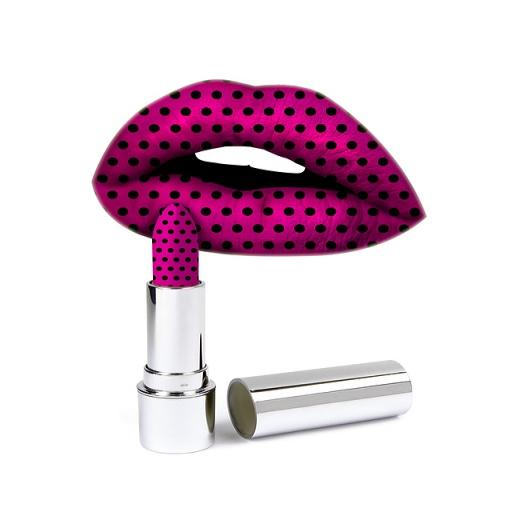lipstick: (137, 204, 214, 452)
